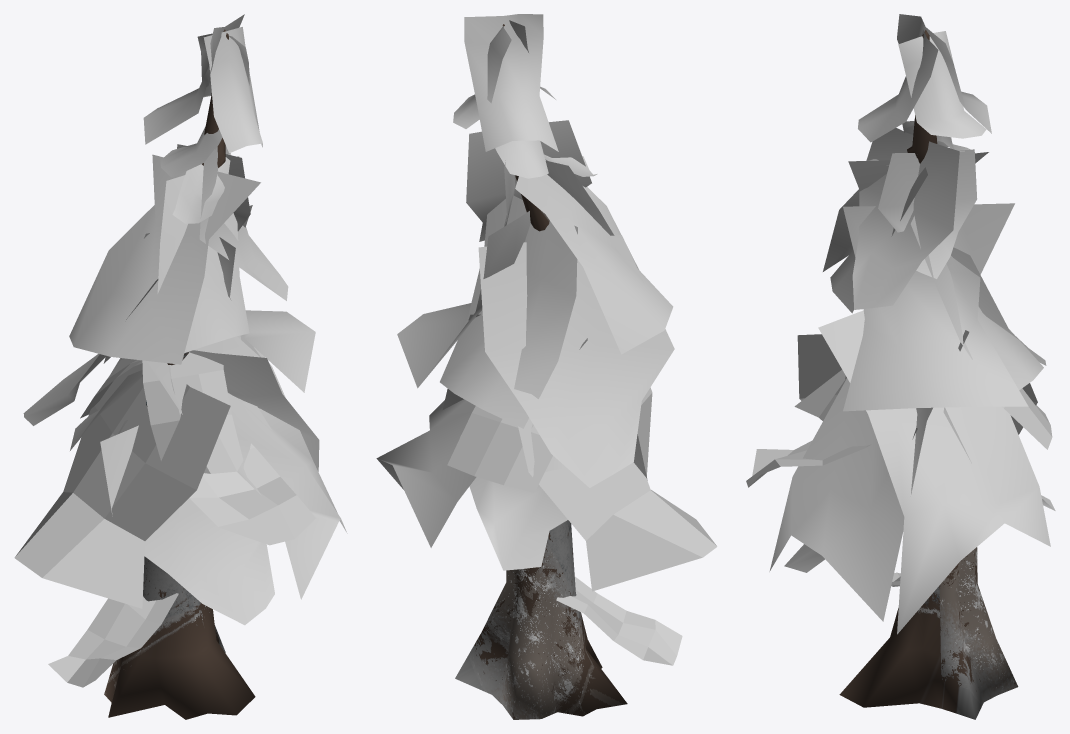
Rendered from Prop_Tree_2_Darline_m.fbx.
3 views of the same model, side by side, from view 1: azimuth 30°, elevation 25°; view 2: azimuth 150°, elevation 25°; view 3: azimuth 270°, elevation 25° (orthographic). The views are drawn at different scales.
Visible parts, largest first — view 1: Prop_Tree_2_Darline_m; view 2: Prop_Tree_2_Darline_m; view 3: Prop_Tree_2_Darline_m.
Boxes of the visible parts, left/top/right/bottom form: Prop_Tree_2_Darline_m: left=14, top=14, right=347, bottom=719; Prop_Tree_2_Darline_m: left=376, top=14, right=717, bottom=719; Prop_Tree_2_Darline_m: left=746, top=14, right=1055, bottom=719.
Size of the model in its own units: 321 by 646 by 261.
